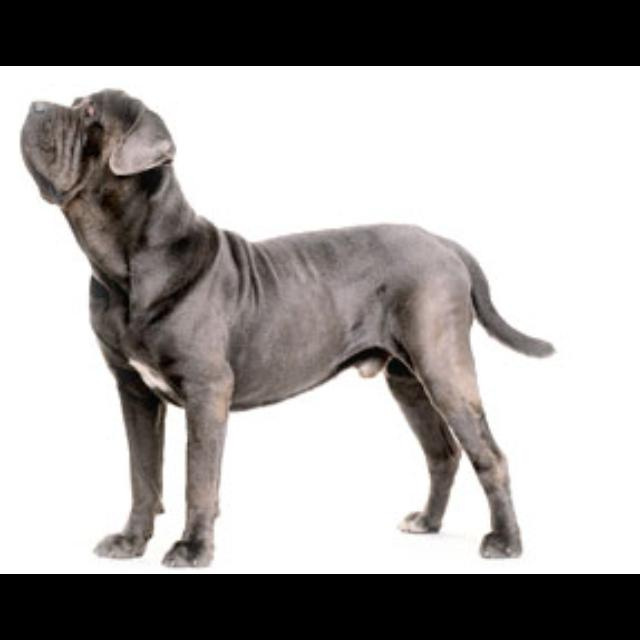mastino_napoletano: (20, 88, 557, 569)
